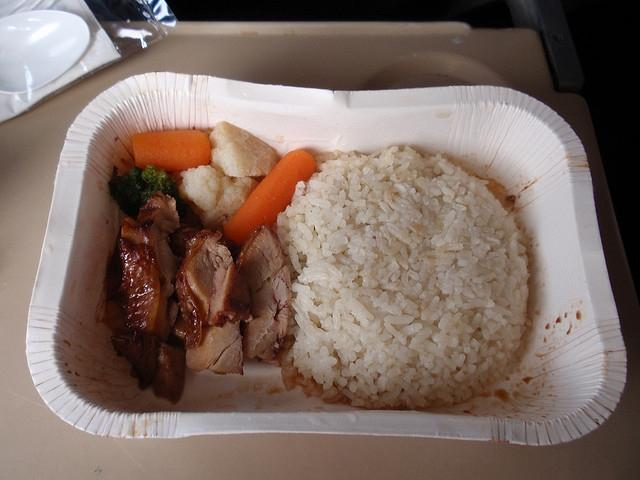broccoli: (109, 164, 179, 221)
carrot: (222, 150, 316, 247), (132, 130, 210, 172)
cauliflower: (208, 121, 278, 179), (200, 177, 260, 233), (178, 165, 222, 216)
